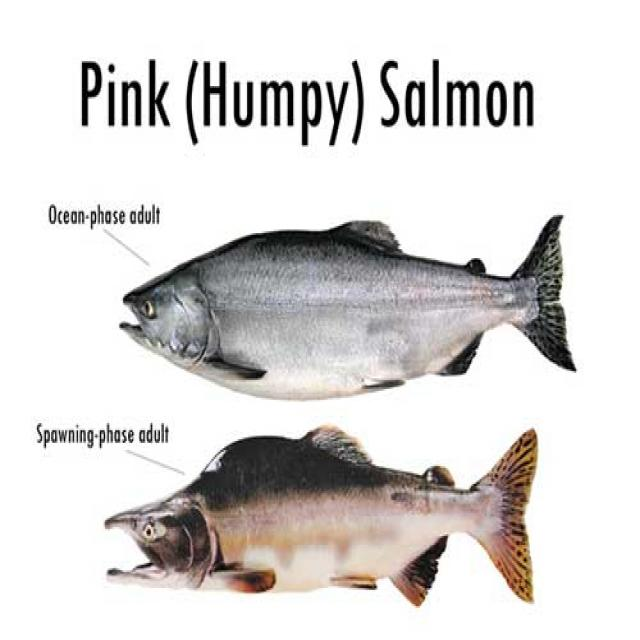salmon: (109, 210, 604, 415), (99, 412, 561, 628)
